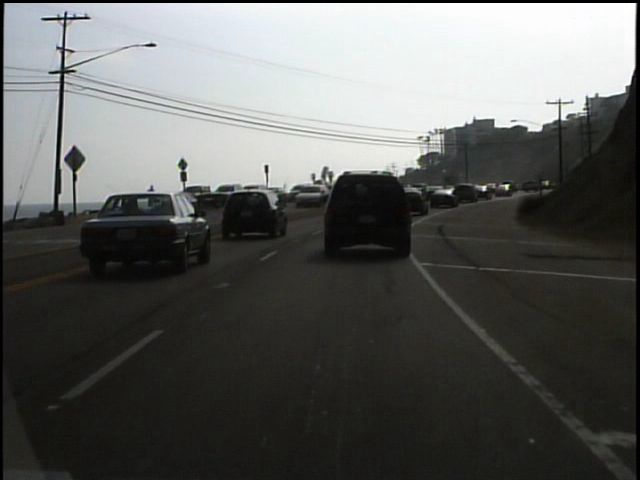person: (145, 182, 161, 211)
